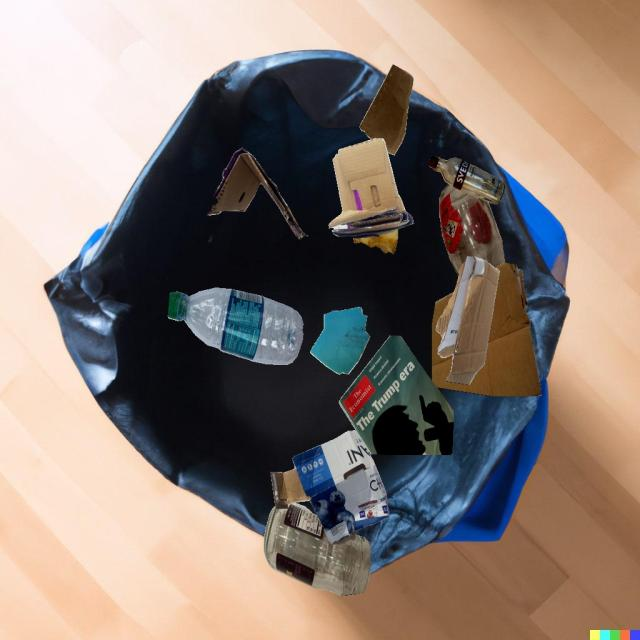biowaste: (353, 229, 398, 254)
cardboard: (432, 262, 541, 396), (270, 430, 389, 545), (208, 147, 308, 239), (328, 138, 414, 239), (436, 256, 499, 385), (360, 64, 413, 155)
glass: (264, 502, 370, 596), (440, 184, 505, 276), (429, 156, 505, 204)
paper: (339, 336, 454, 455), (310, 307, 370, 374)
plastic: (168, 287, 303, 365)
